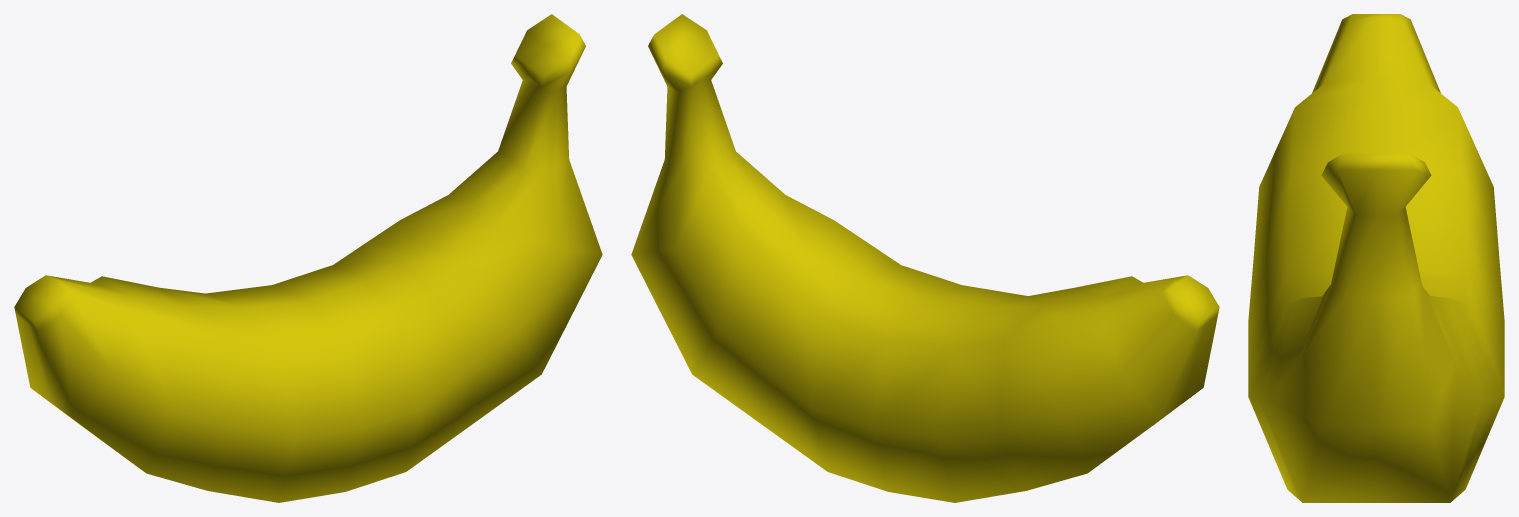
Rendered from Banana.fbx.
3 renders of one model, left to right at view 1: azimuth 30°, elevation 25°; view 2: azimuth 150°, elevation 25°; view 3: azimuth 270°, elevation 25°, orthographic. The views are drawn at different scales.
Visible parts, largest first — view 1: Cube_001; view 2: Cube_001; view 3: Cube_001.
Part boxes in pixels (box(x1,y1,x2,y2)): Cube_001: box(14, 14, 602, 502); Cube_001: box(631, 14, 1219, 502); Cube_001: box(1248, 14, 1504, 502).
Size of the model in its own units: 8.74 by 5.68 by 2.88.
